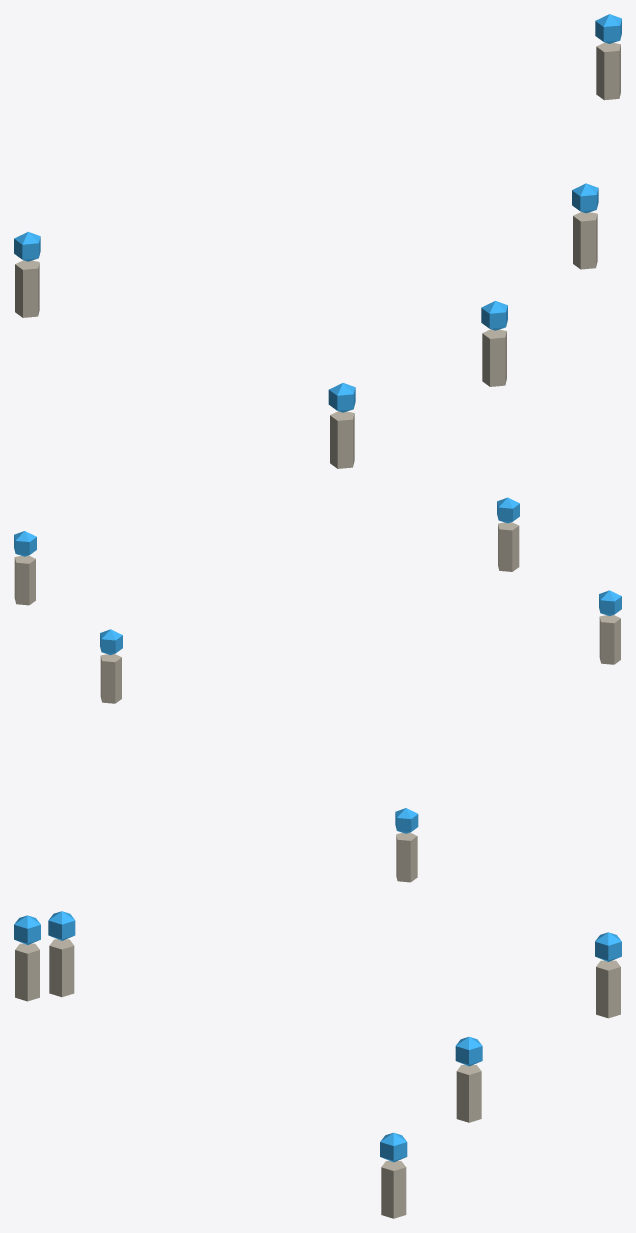
Rendered from floating_candles.glb.
3 views of the same model, one above another, from view 1: azimuth 30°, elevation 25°; view 2: azimuth 150°, elevation 25°; view 3: azimuth 270°, elevation 25° (orthographic). The views are drawn at different scales.
Visible parts, largest first — view 1: floating_candles; view 2: floating_candles; view 3: floating_candles.
Boxes of the visible parts, x1=… form: floating_candles: x1=14, y1=14, x2=621, y2=468; floating_candles: x1=14, y1=497, x2=621, y2=882; floating_candles: x1=14, y1=911, x2=621, y2=1218.
Size of the model in its own units: 1.86 by 0.7504 by 1.85.
